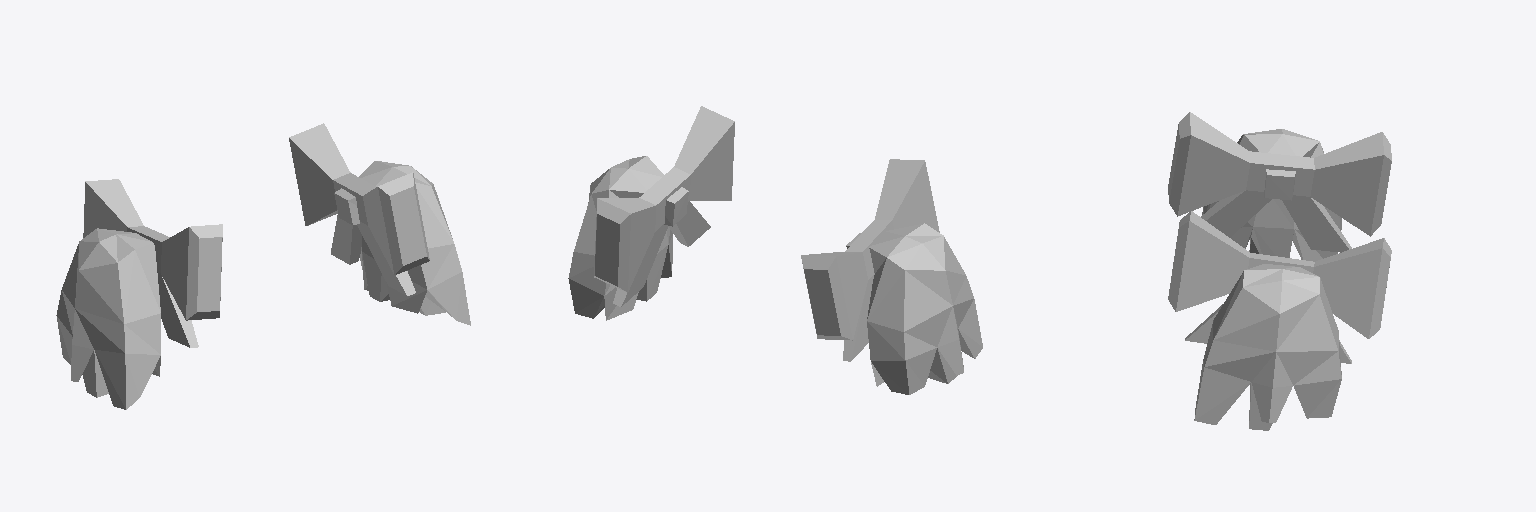
Rendered from twintails_pink.obj.
3 renders of one model, left to right at view 1: azimuth 30°, elevation 25°; view 2: azimuth 150°, elevation 25°; view 3: azimuth 270°, elevation 25°, orthographic.
Parts seen in each view (by area): view 1: Madoka_Hair_2_MadokaHair, Madoka_Ribbon_2_MadokaRibbon2; view 2: Madoka_Hair_2_MadokaHair, Madoka_Ribbon_2_MadokaRibbon2; view 3: Madoka_Ribbon_2_MadokaRibbon2, Madoka_Hair_2_MadokaHair.
Part boxes in pixels (x1,y1,x2,y2): Madoka_Hair_2_MadokaHair: (56, 161, 470, 409); Madoka_Ribbon_2_MadokaRibbon2: (83, 123, 429, 347); Madoka_Hair_2_MadokaHair: (568, 156, 982, 394); Madoka_Ribbon_2_MadokaRibbon2: (594, 106, 939, 361); Madoka_Ribbon_2_MadokaRibbon2: (1168, 112, 1391, 363); Madoka_Hair_2_MadokaHair: (1194, 129, 1341, 430).
Bounding box in the file's own units: 1.02 × 0.4575 × 0.5175.